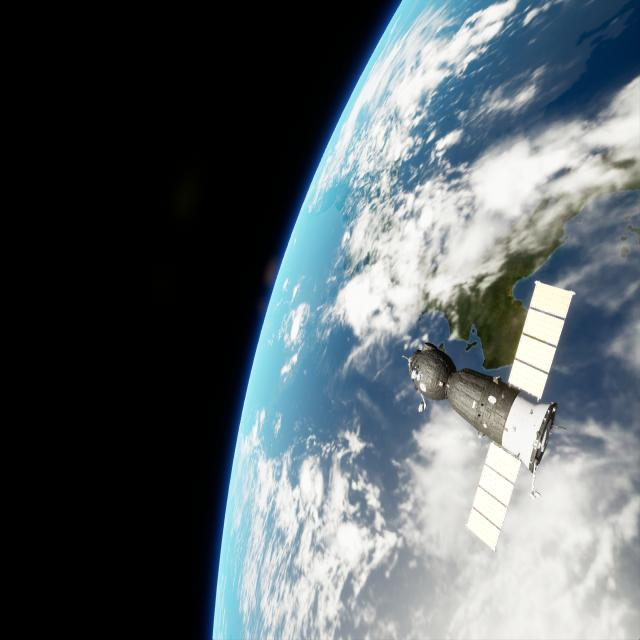Satellites revolving around earth: (211, 1, 638, 638), (402, 277, 577, 554)
